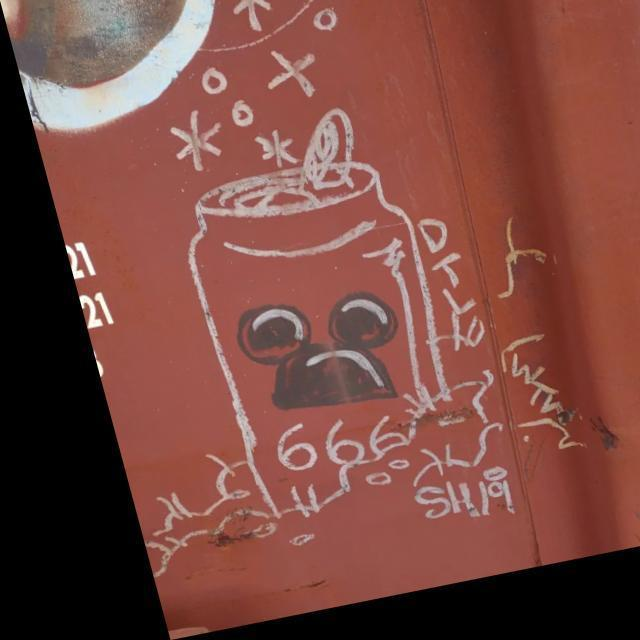-: (17, 0, 617, 598), (31, 138, 129, 380)
